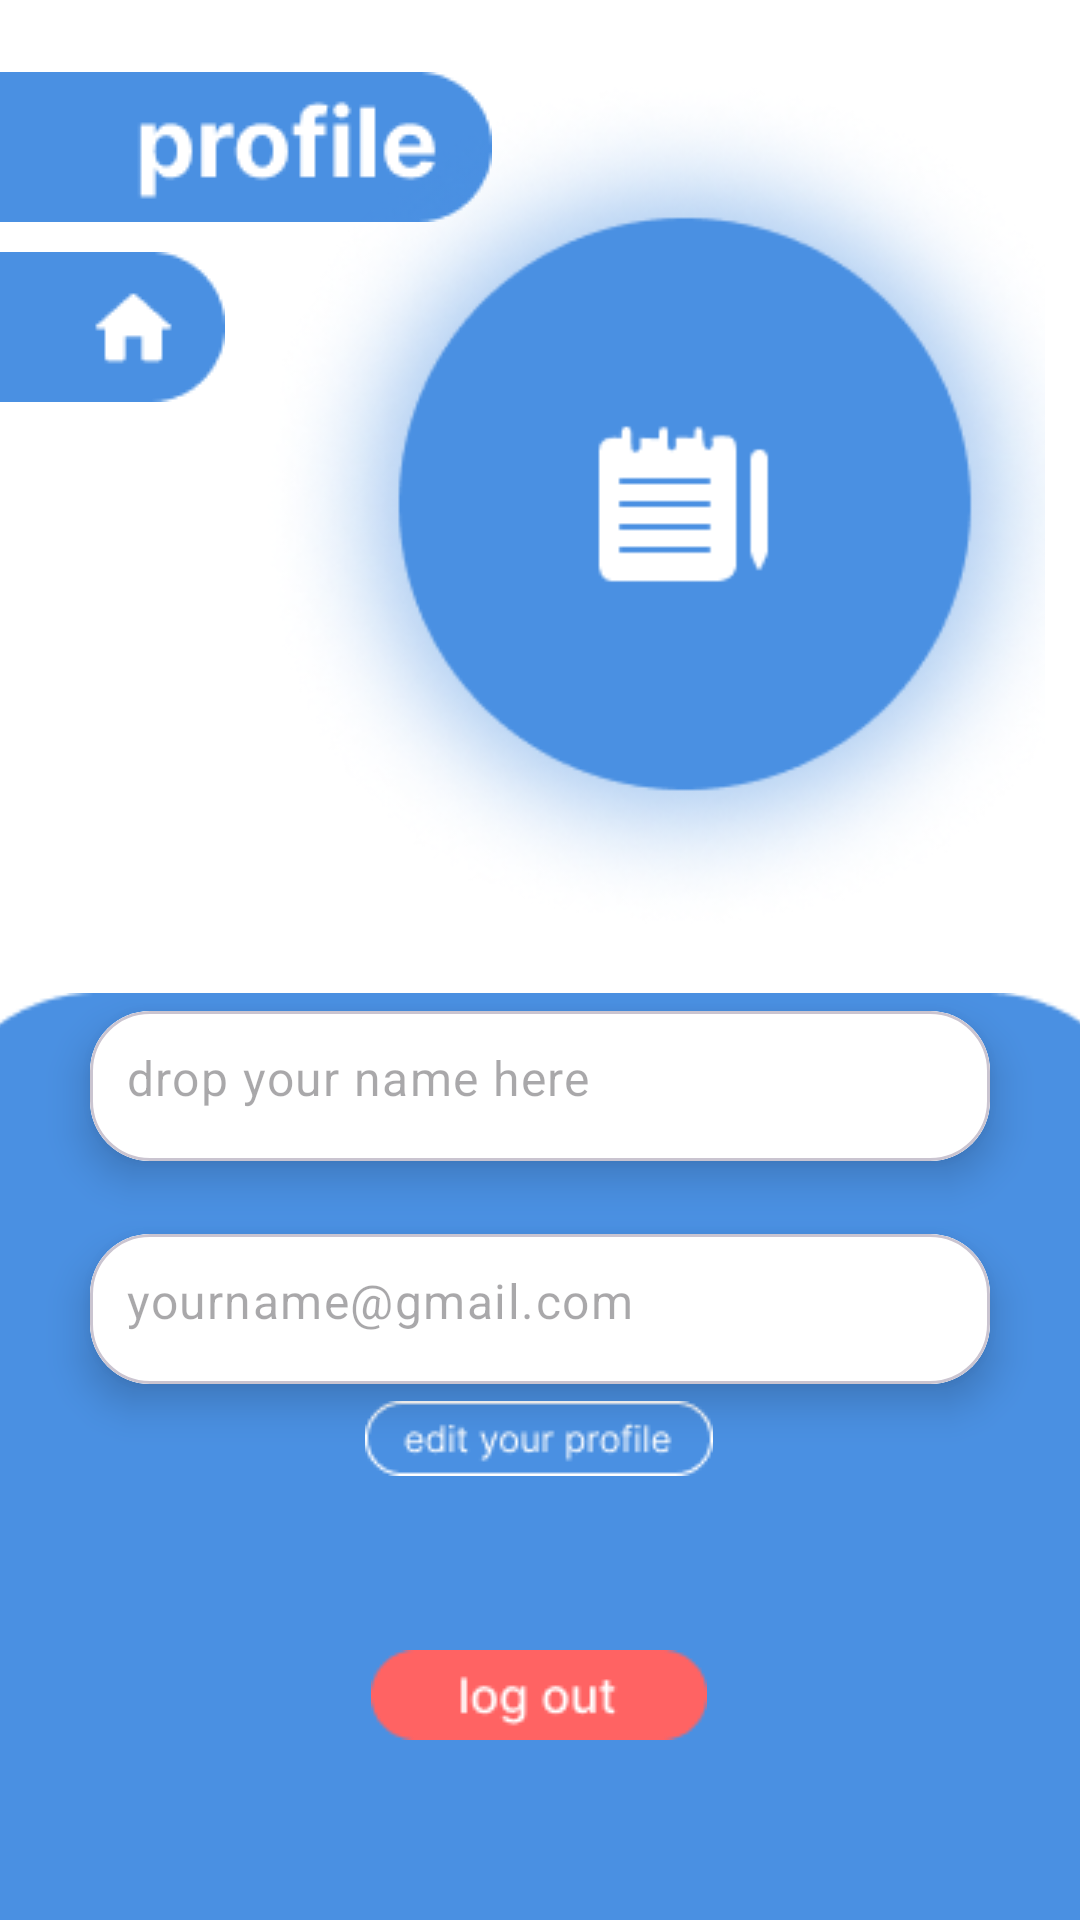

Icons on this 1080px×1920px Android screen, each with the point to tap as point (x, y):
home: point (112, 327)
